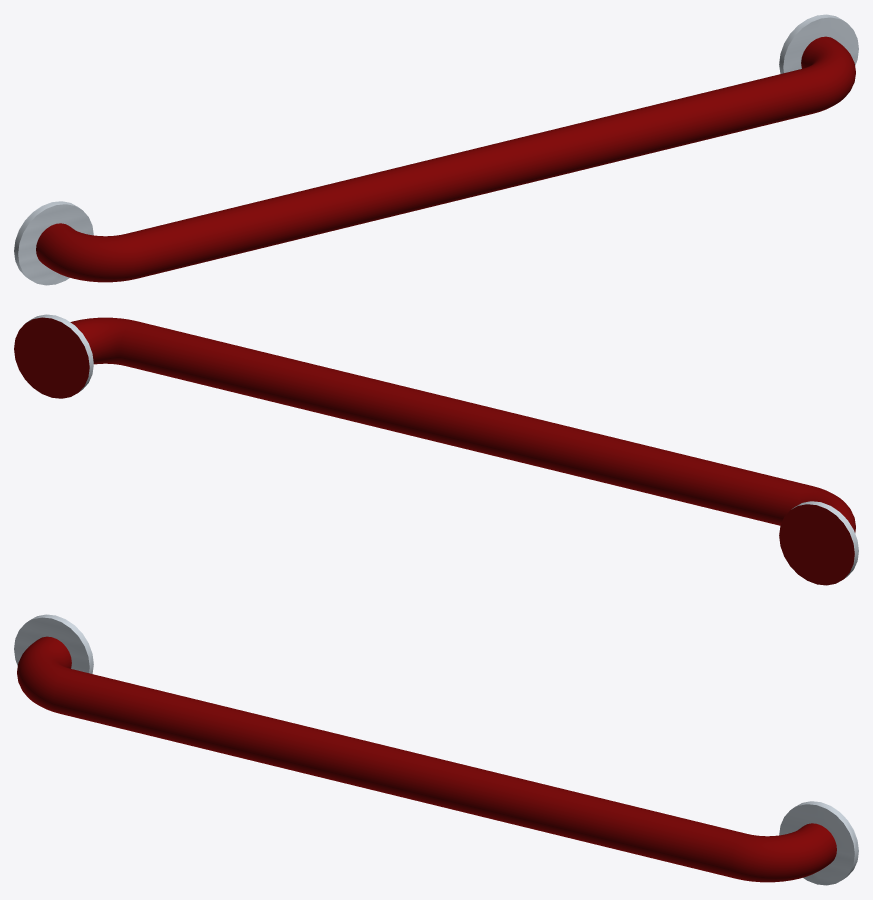
The model's file is handrail 3約95cm.gltf.
The picture shows the model from 3 angles, top to bottom: view 1: azimuth 30°, elevation 25°; view 2: azimuth 150°, elevation 25°; view 3: azimuth 330°, elevation 25°; orthographic projection.
Visible parts, largest first — view 1: root; view 2: root; view 3: root.
Boxes of the visible parts, <box> form: root: <box>14,14,858,285</box>; root: <box>14,314,858,585</box>; root: <box>14,614,858,885</box>.
Size of the model in its own units: 0.9436 by 0.085 by 0.09.
Materials: 2 (1 with a texture image).
